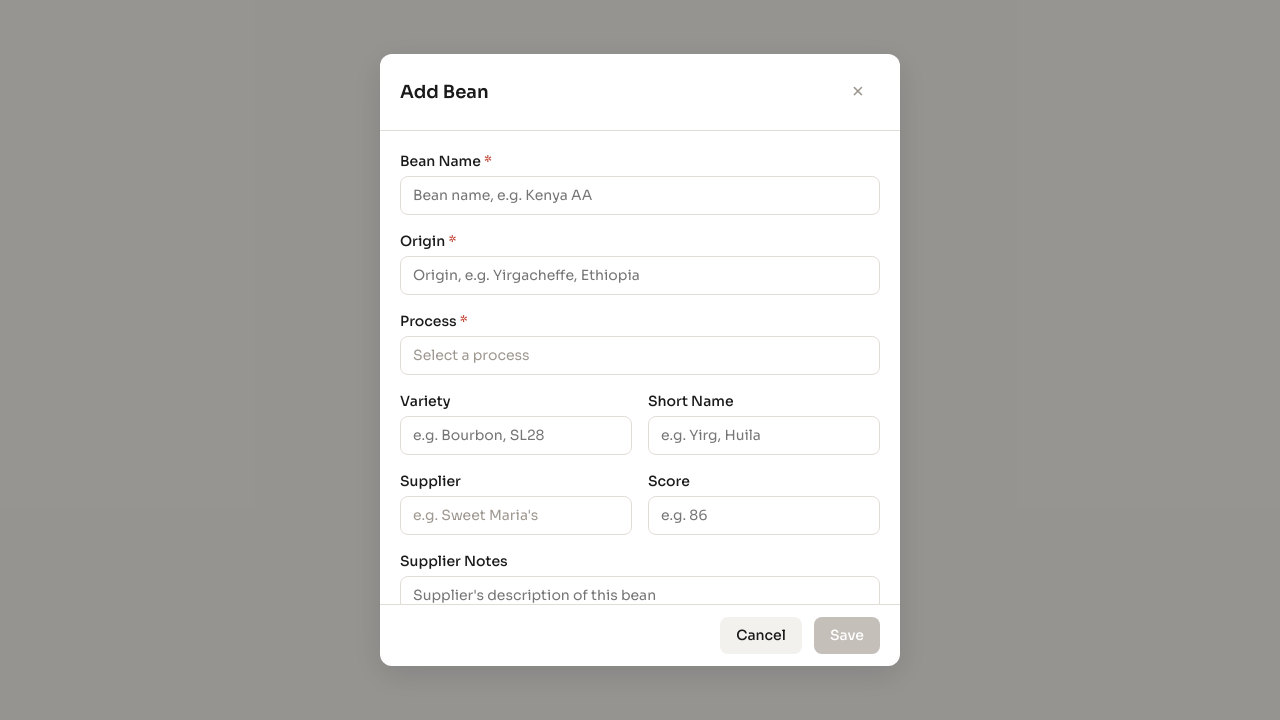
Test: AddBeanModal integration: form flow › button state machine: tracks enabled/disabled through field changes
Expected: the button "Save" is disabled, [814,617,880,654]
Fill name only → still disabled
Type "Kenya AA" into the field with placeholder "Bean name, e.g. Kenya AA" at (640, 196), box [400,176,880,215]
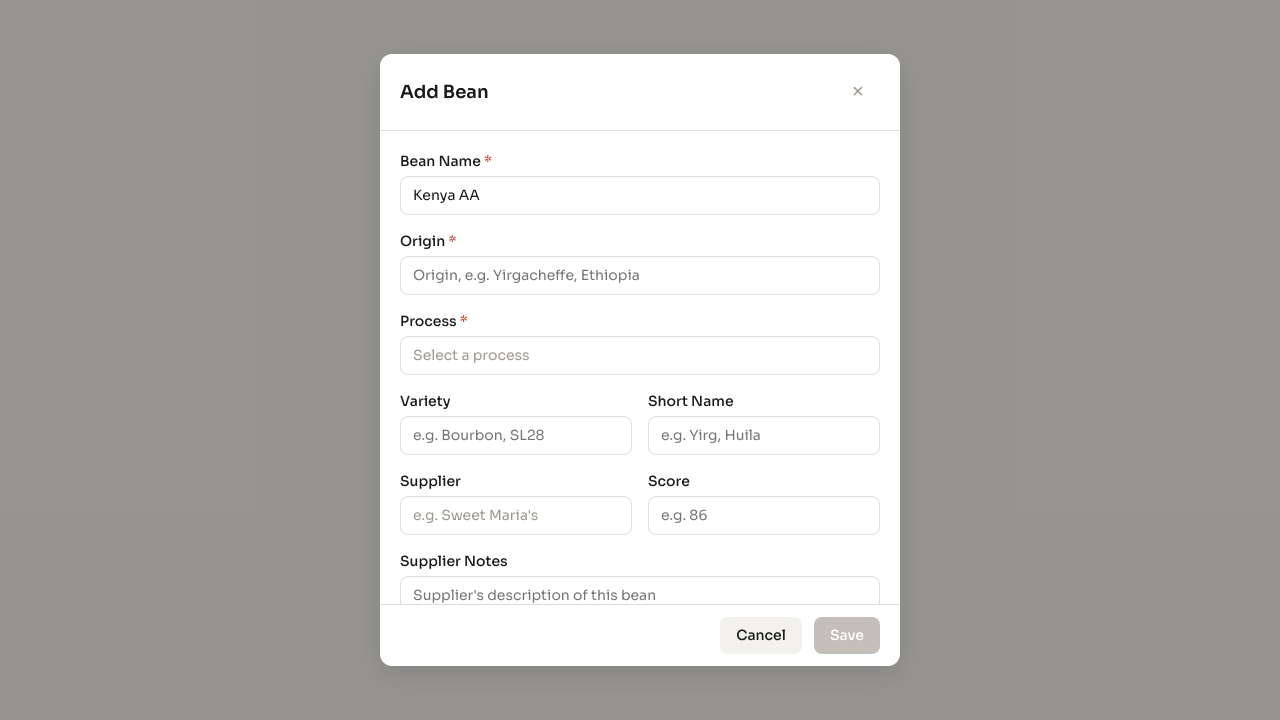
Expected: the button "Save" is disabled, [814,617,880,654]
Type "Nyeri, Kenya" into the field with placeholder "Origin, e.g. Yirgacheffe, Ethiopia" at (640, 276), box [400,256,880,295]
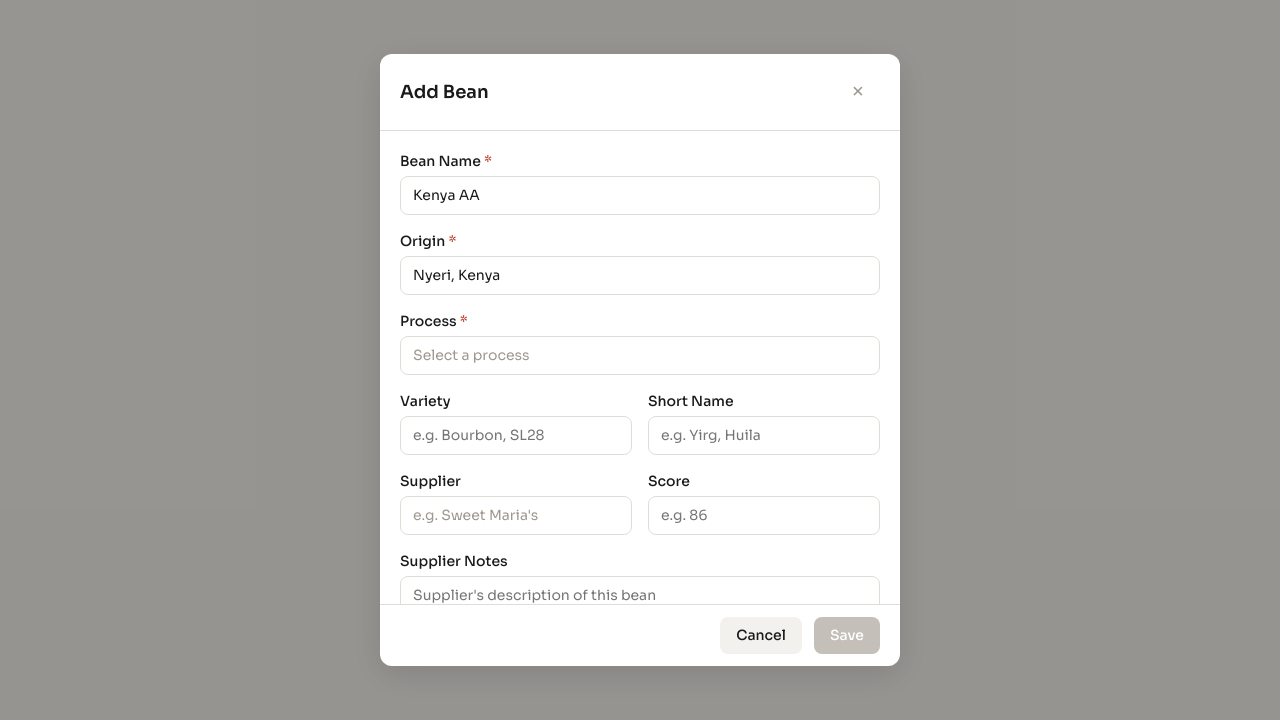
Expected: the button "Save" is disabled, [814,617,880,654]
Fill process → enabled
Click the dropdown with placeholder "Select a process" at (640, 356), box [400,336,880,375]
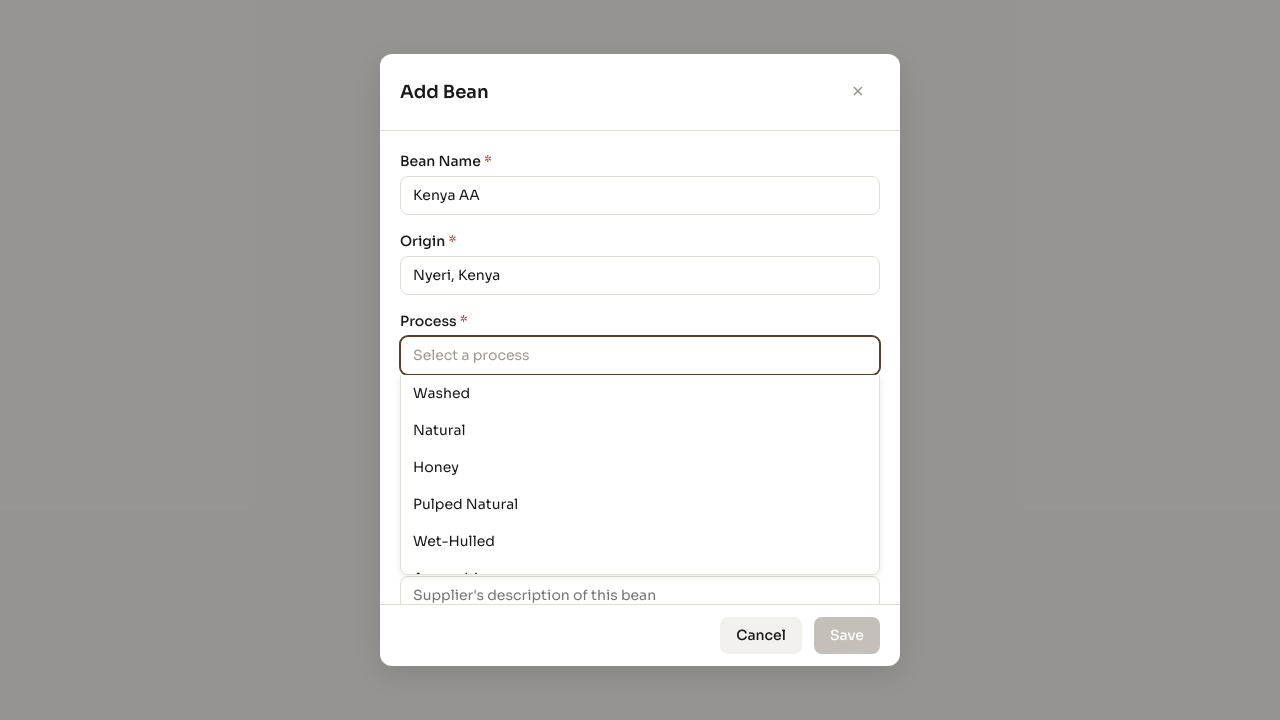
Click the option "Washed" at (442, 393), box [413,384,470,402]
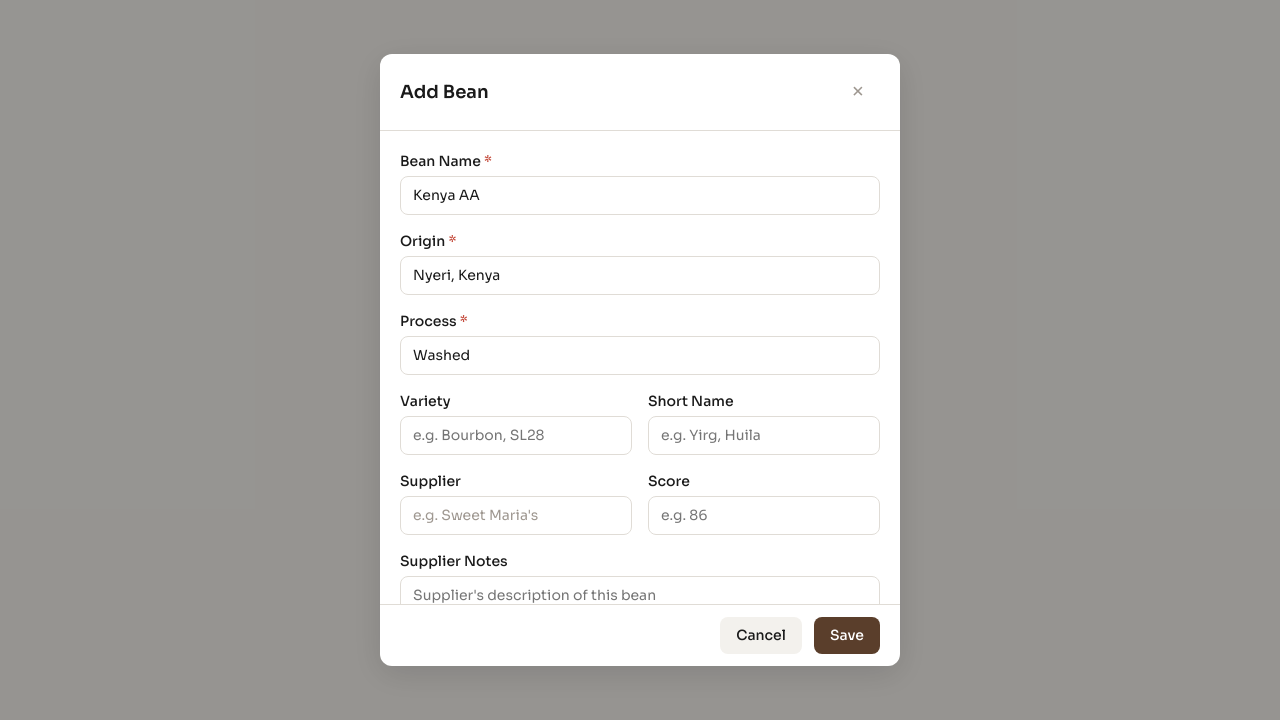
Result: the button "Save" is enabled at [814,617,880,654]
Clear name → disabled again
Clear the field with placeholder "Bean name, e.g. Kenya AA" below "Bean Name" at (640, 196), box [400,176,880,215]
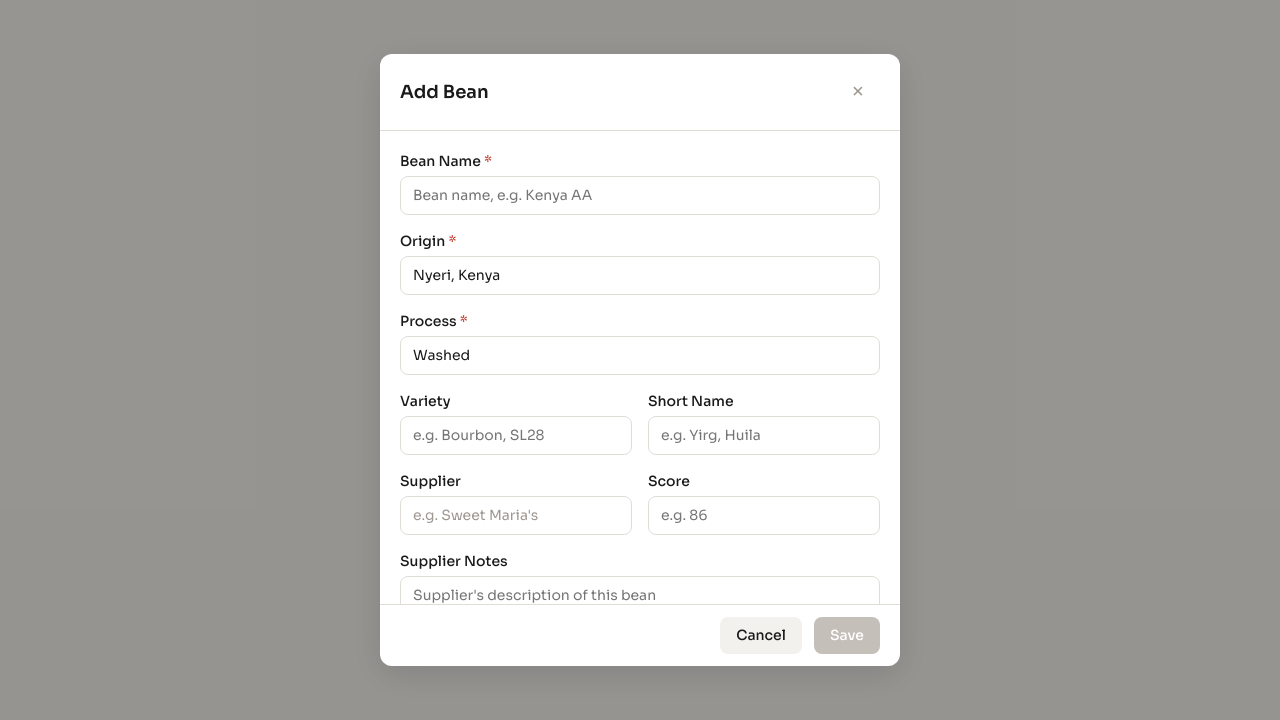
Result: the button "Save" is disabled at [814,617,880,654]
